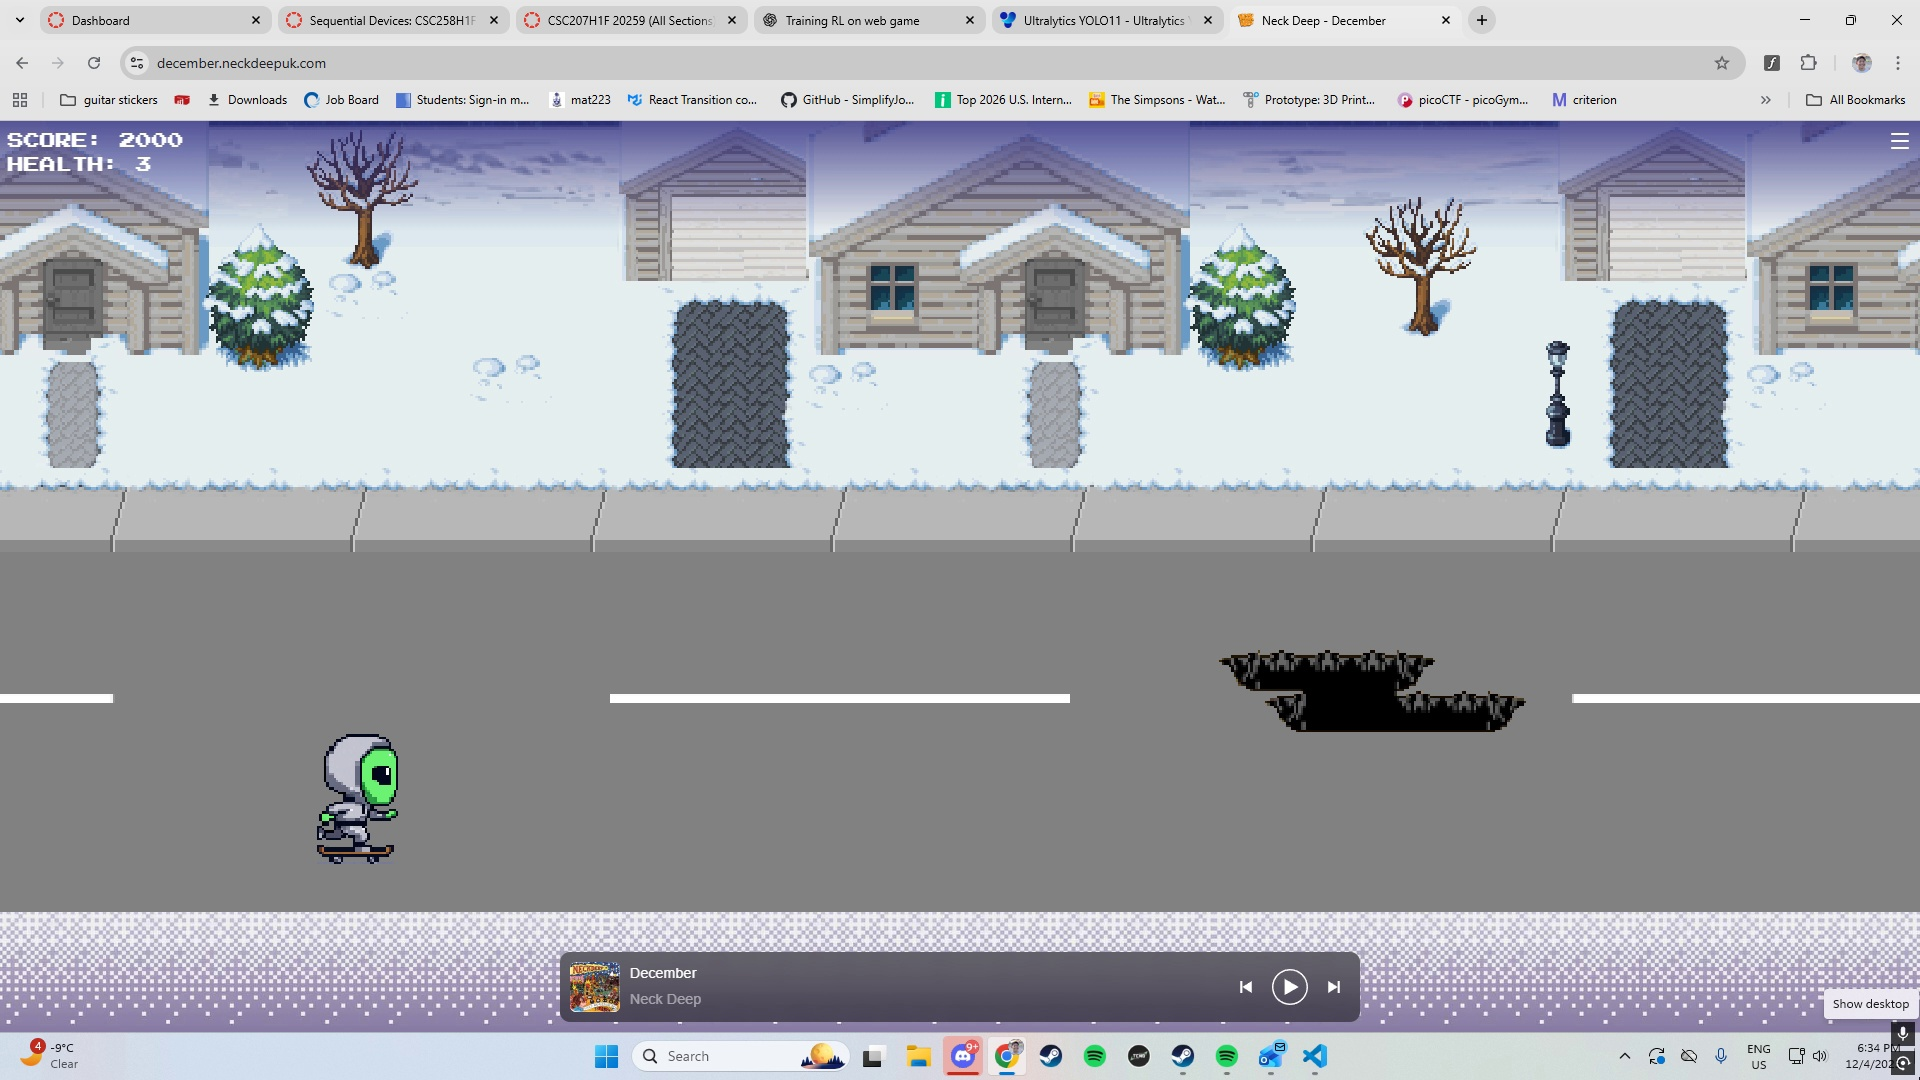Hole: (1209, 647, 1529, 741)
Player: (314, 729, 402, 870)
